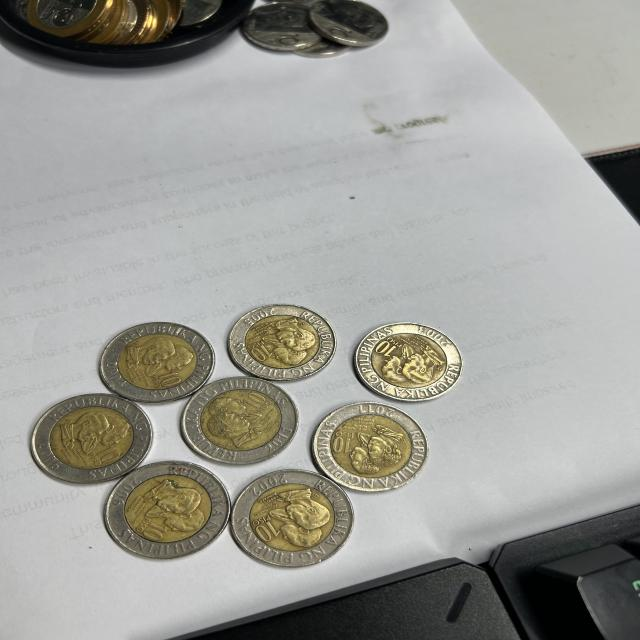10_Old_Front: (144, 520, 169, 543), (254, 521, 281, 542), (94, 444, 120, 463), (248, 343, 273, 362), (242, 391, 269, 408), (331, 436, 355, 454), (158, 370, 183, 387), (375, 340, 399, 356)
